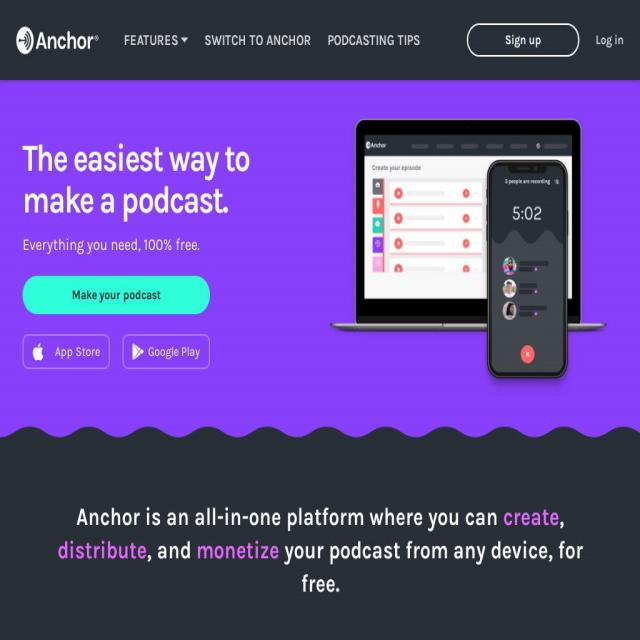login-option: (592, 22, 632, 58)
navigation-links: (115, 23, 430, 57)
sign-up-option: (462, 18, 584, 64)
